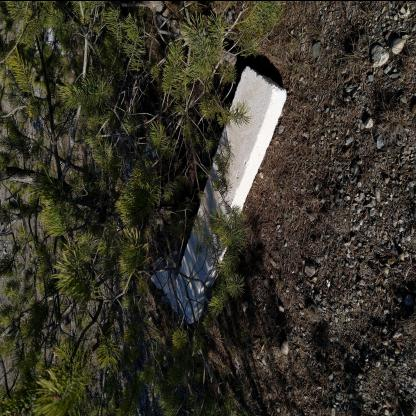kopuk: (175, 66, 287, 324)
